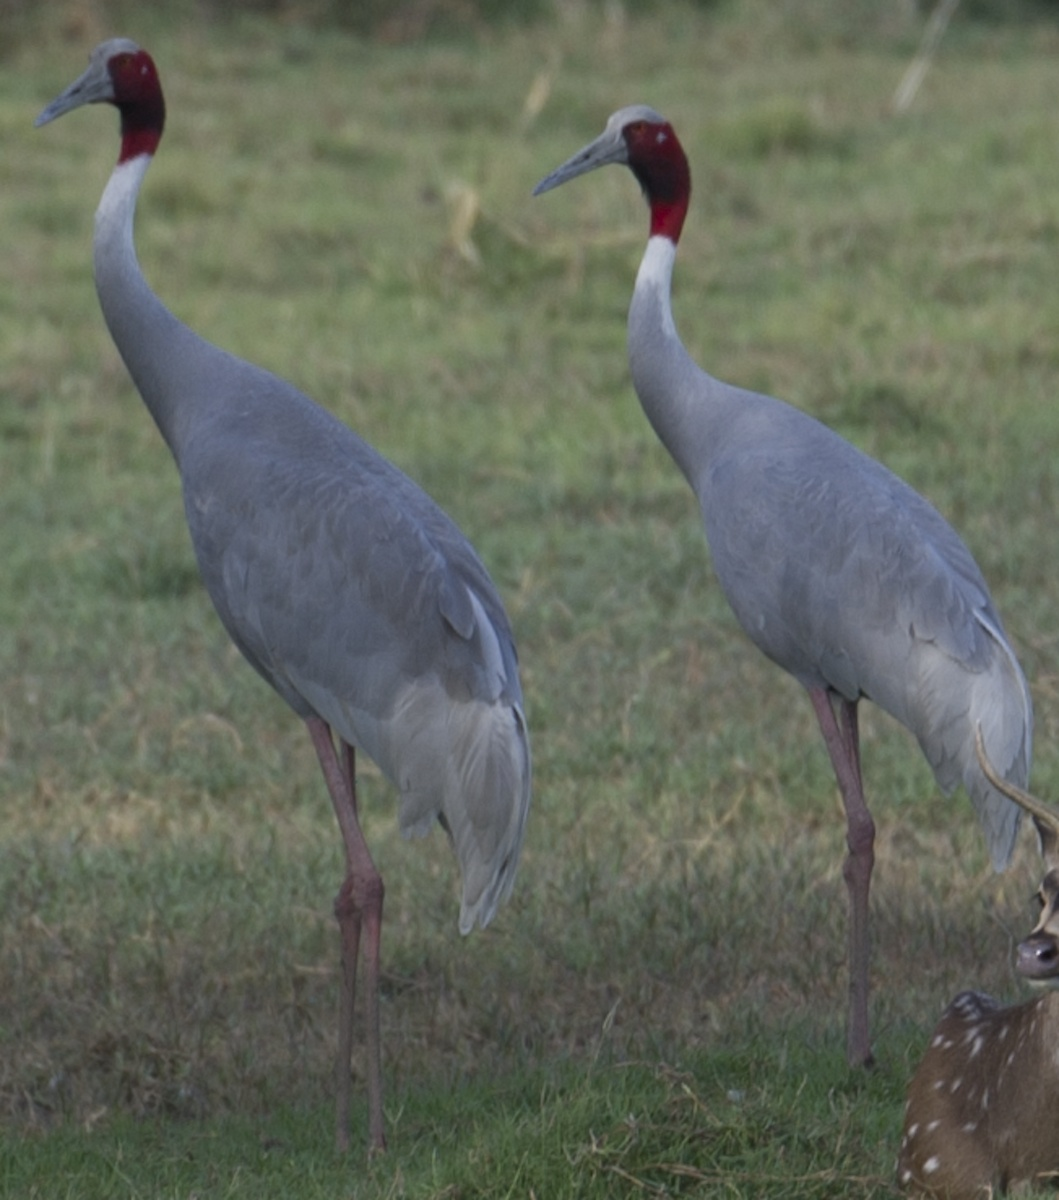crane: (65, 16, 564, 1062), (539, 74, 1056, 942)
